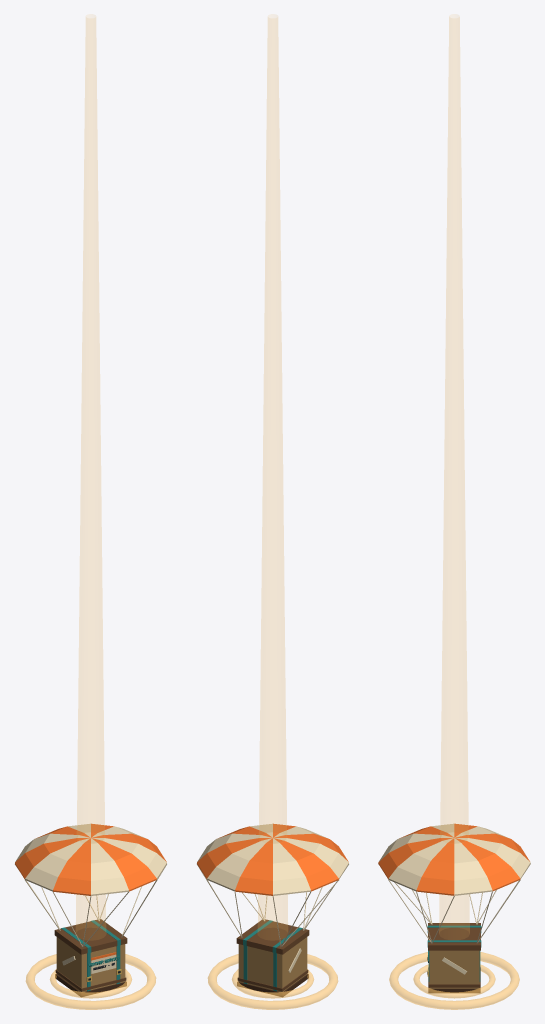
The model's file is airdrop.glb.
3 views of the same model, side by side, from view 1: azimuth 30°, elevation 25°; view 2: azimuth 150°, elevation 25°; view 3: azimuth 270°, elevation 25° (orthographic).
Visible parts, largest first — view 1: BeaconBeam, _MeshInstance3D_4368, Merged2, BeaconRingOuter, Merged, Merged3, BeaconRingInner; view 2: BeaconBeam, _MeshInstance3D_4368, Merged2, BeaconRingOuter, Merged, Merged3, BeaconRingInner; view 3: BeaconBeam, _MeshInstance3D_4368, Merged2, BeaconRingOuter, Merged, BeaconRingInner, Merged3.
Part boxes in pixels (x1,y1,x2,y2): BeaconBeam: (76,17,105,932); _MeshInstance3D_4368: (15,823,166,895); Merged2: (55,937,126,996); BeaconRingOuter: (25,954,156,1009); Merged: (54,919,127,954); Merged3: (15,864,166,947); BeaconRingInner: (50,969,131,998); BeaconBeam: (258,17,287,932); _MeshInstance3D_4368: (197,823,348,895); Merged2: (237,937,308,996); BeaconRingOuter: (207,954,338,1009); Merged: (236,919,309,954); Merged3: (196,863,348,947); BeaconRingInner: (232,969,313,998); BeaconBeam: (439,16,469,933); _MeshInstance3D_4368: (378,823,530,895); Merged2: (427,950,480,992); BeaconRingOuter: (389,952,519,1009); Merged: (427,923,481,950); BeaconRingInner: (413,964,495,998); Merged3: (378,863,530,943).
Size of the model in its own units: 4.02 by 28.03 by 4.02.
